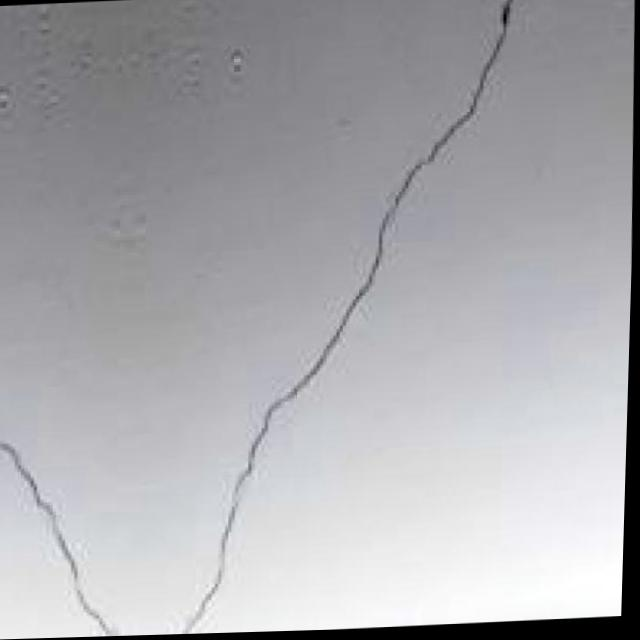Crack: (163, 0, 551, 636), (0, 411, 141, 640)
